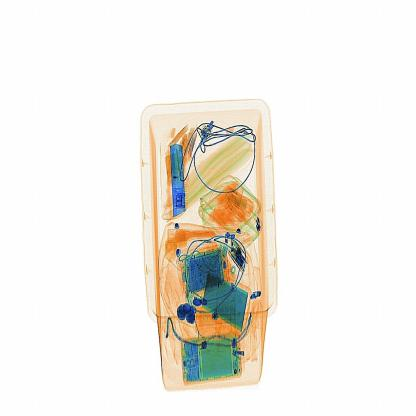pliers: (160, 129, 200, 229)
